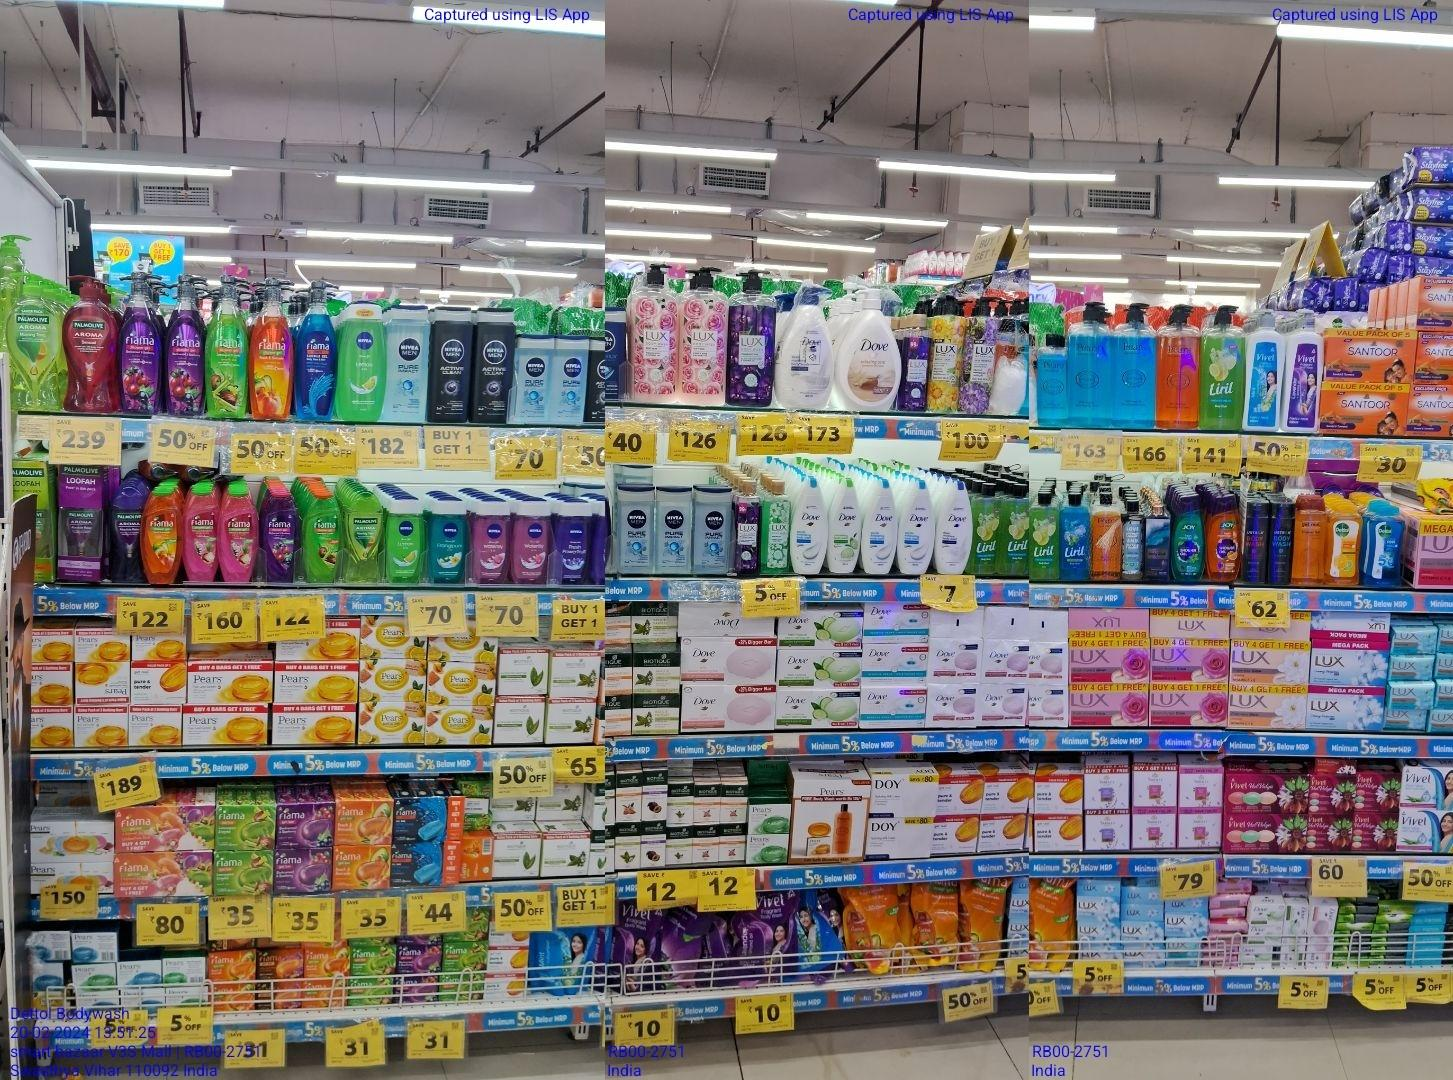Dettol_Bodywash_Cool: (1368, 507, 1404, 587)
Dettol_Bodywash_Refresh: (1330, 505, 1360, 587)
Dove_Deep_Moisture_Body_Wash_250ML: (936, 483, 973, 573)
Dove_Gentle_Exfoliating_Body_Wash_250ML: (793, 476, 828, 575), (863, 481, 897, 575), (901, 481, 934, 574)
Dove_Refreshing_Body_Wash_250ML: (829, 480, 860, 575)
Fiama_Shower_Gel_Lemongrass_and_Jojoba_250ML: (306, 493, 341, 583)
Fiama_Shower_Gel_Patchouli_and_Macadamia_250ML: (220, 489, 257, 584), (186, 491, 218, 581)
Fiama_Shower_Gel_Peach_and_Avocado_250ML: (144, 488, 180, 583)
Get_Real_Shower_Gel_Moisturising_Glycerin_300ML: (1295, 497, 1328, 585)
Joy_Shower_Gel_Mandarin_and_Lemongrass_250ML: (1206, 495, 1239, 584)
Joy_Shower_Gel_Mint_and_Eucalyptus_250ML: (1173, 496, 1205, 581)
Liril_Cooling_Mint_Body_Wash_250ML: (1062, 493, 1090, 581)
Liril_Lime_and_Tea_Tree_Oil_Body_Wash_250ML: (1031, 492, 1059, 581), (1004, 484, 1030, 575), (977, 482, 1002, 575)
Lux_Black_Orchid_Scent_and_Juniper_Oil_Body_Wash_245ML: (734, 482, 761, 575)
Lux_Body_Wash_Skin_Detox_Freesia_Scent_and_Alove_Vera_245ML: (767, 480, 789, 575)
Nivea_Shower_Gel_Frangipani_and_Oil_250ML: (433, 501, 470, 583)
Nivea_Shower_Gel_Fresh_Powerfruit_250ML: (558, 500, 593, 582)
Nivea_Shower_Gel_Lemon_and_Oil_250ML: (340, 303, 387, 422), (389, 501, 425, 583)
Nivea_Shower_Gel_Waterlily_and_Oil_250ML: (514, 501, 550, 584), (473, 500, 508, 582)
Palmolive_Aroma_Morning_Tonic_Shower_Gel_250ML: (347, 493, 386, 583)
Palmolive_Aroma_Relax_250ML: (109, 488, 144, 582)
